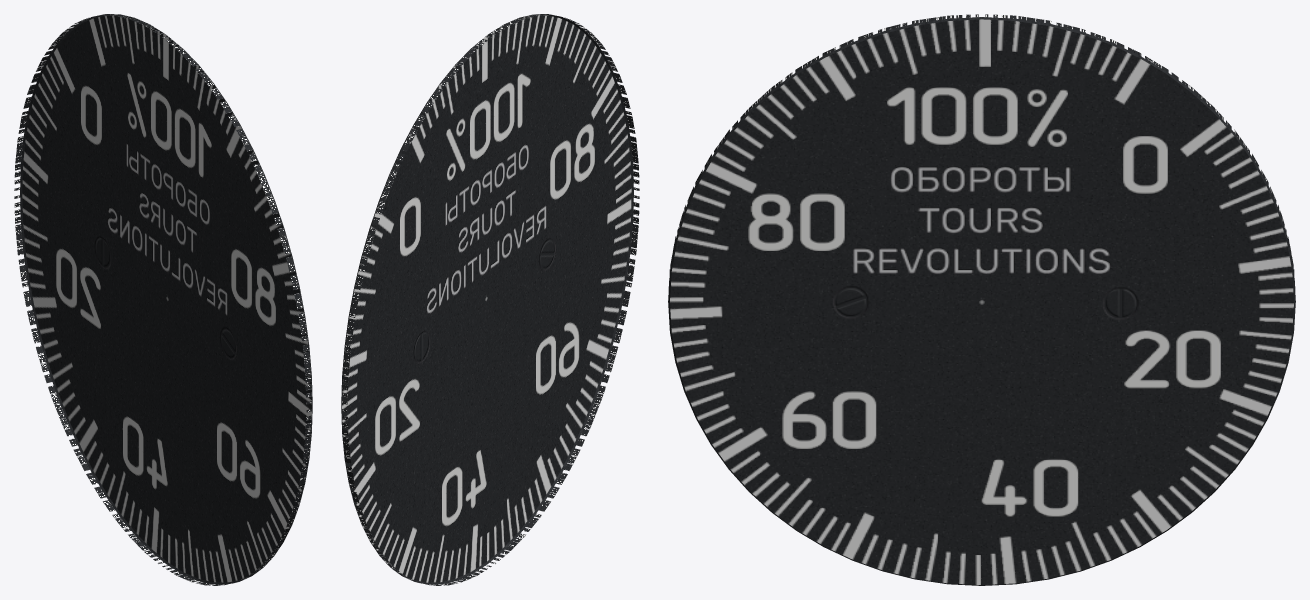
Rendered from scale.obj.
3 renders of one model, left to right at view 1: azimuth 30°, elevation 25°; view 2: azimuth 150°, elevation 25°; view 3: azimuth 270°, elevation 25°, orthographic. The views are drawn at different scales.
Visible parts, largest first — view 1: scale; view 2: scale; view 3: scale.
Part boxes in pixels (x1,y1,x2,y2): scale: [14, 14, 312, 585]; scale: [341, 14, 639, 585]; scale: [668, 14, 1295, 585].
Bounding box in the file's own units: 1 × 70 × 70.
Materials: 1 (1 with a texture image).
